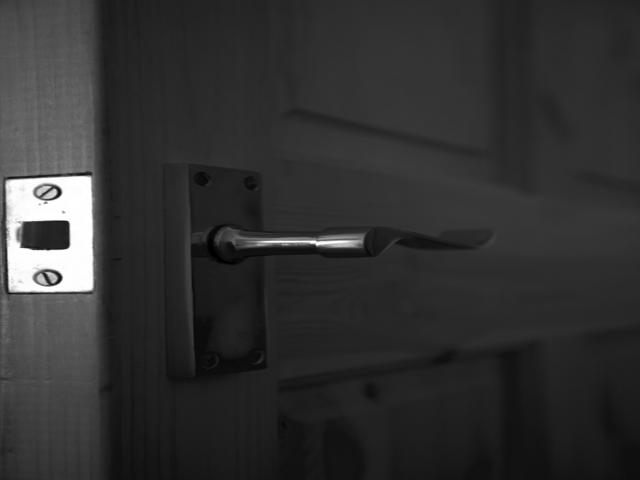Door-handle: (164, 162, 497, 382)
